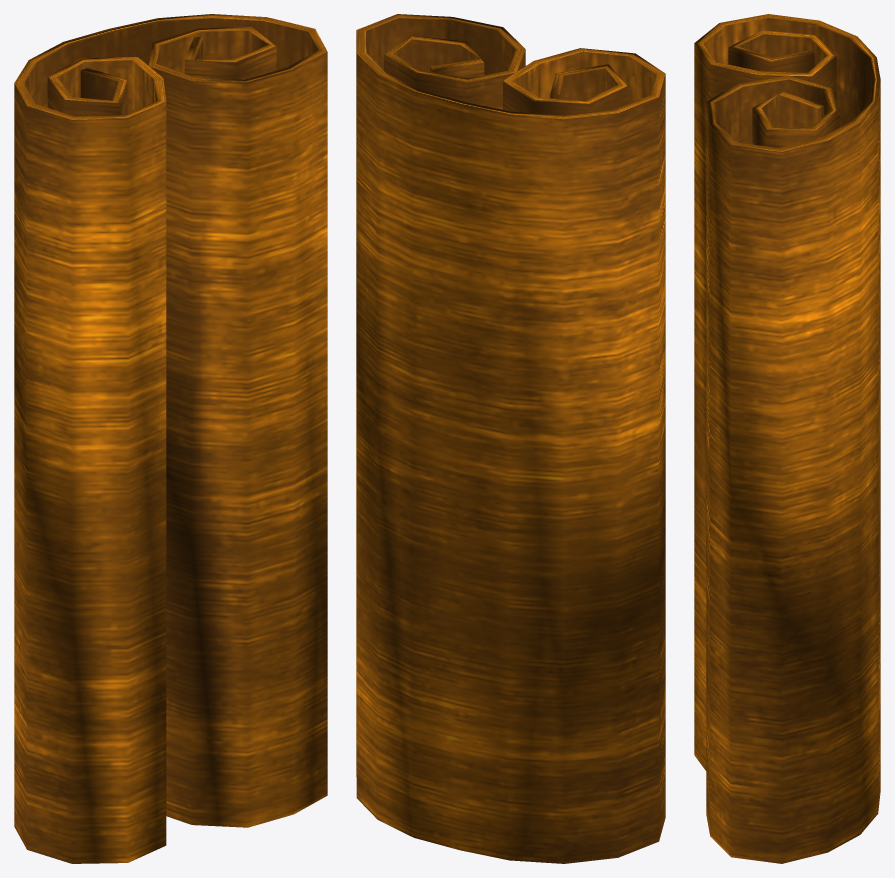
Rendered from Cinnamon.fbx.
3 views of the same model, side by side, from view 1: azimuth 30°, elevation 25°; view 2: azimuth 150°, elevation 25°; view 3: azimuth 270°, elevation 25° (orthographic). The views are drawn at different scales.
Visible parts, largest first — view 1: Cinnamon; view 2: Cinnamon; view 3: Cinnamon.
Part boxes in pixels (x1,y1,x2,y2): Cinnamon: (14, 14, 327, 863); Cinnamon: (356, 14, 665, 863); Cinnamon: (694, 14, 880, 863).
Size of the model in its own units: 80.06 by 193 by 45.68.
1 material, 1 textured.
